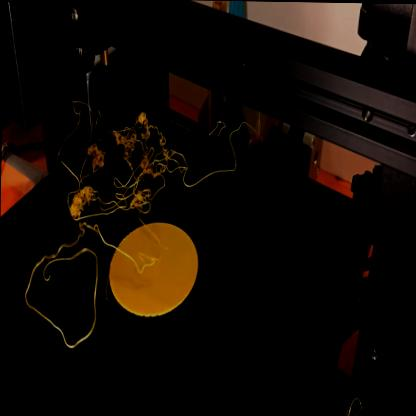fail: (55, 108, 190, 222), (13, 223, 111, 356)
